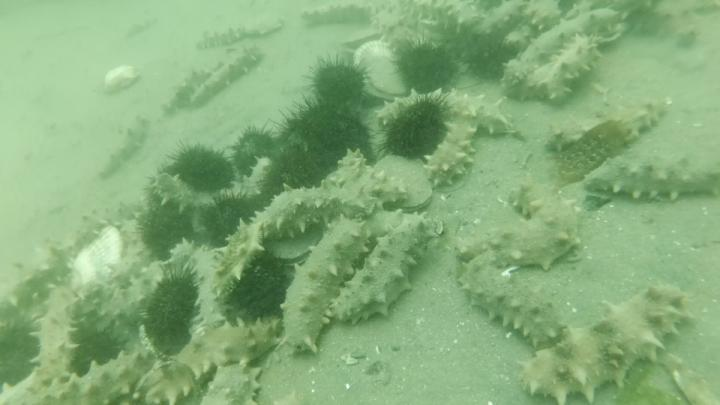echinus: (266, 97, 371, 156), (138, 266, 201, 357), (374, 95, 455, 162), (231, 253, 296, 325), (157, 140, 237, 192), (198, 192, 268, 250), (256, 145, 329, 200), (134, 202, 200, 261), (394, 38, 460, 97), (304, 56, 371, 112), (226, 122, 281, 180), (460, 31, 515, 85), (71, 323, 127, 373), (1, 321, 41, 387)
holothurian: (517, 282, 696, 405), (273, 216, 373, 361), (325, 214, 443, 328), (456, 179, 584, 273), (500, 7, 628, 101), (459, 251, 568, 352), (250, 180, 373, 246), (540, 96, 674, 155), (1, 351, 145, 405), (580, 153, 720, 206), (375, 87, 517, 139), (516, 31, 607, 107), (175, 317, 282, 372), (30, 282, 81, 387), (332, 146, 411, 210), (212, 216, 269, 302), (189, 45, 264, 110), (422, 115, 483, 193), (1, 245, 65, 318), (90, 268, 163, 329), (56, 205, 128, 264), (159, 61, 226, 124), (96, 114, 152, 184), (189, 244, 227, 331), (111, 215, 153, 292), (397, 1, 489, 36), (212, 156, 277, 204), (133, 362, 203, 405), (198, 363, 266, 405), (152, 171, 216, 214), (300, 1, 388, 29), (466, 1, 526, 39), (380, 24, 435, 58), (193, 23, 249, 55), (369, 1, 417, 35), (522, 1, 561, 33), (505, 21, 539, 50)
scallop: (68, 224, 125, 299), (374, 152, 435, 213), (354, 40, 409, 106), (272, 228, 325, 270), (337, 27, 391, 58), (99, 63, 144, 98), (238, 13, 290, 39)
